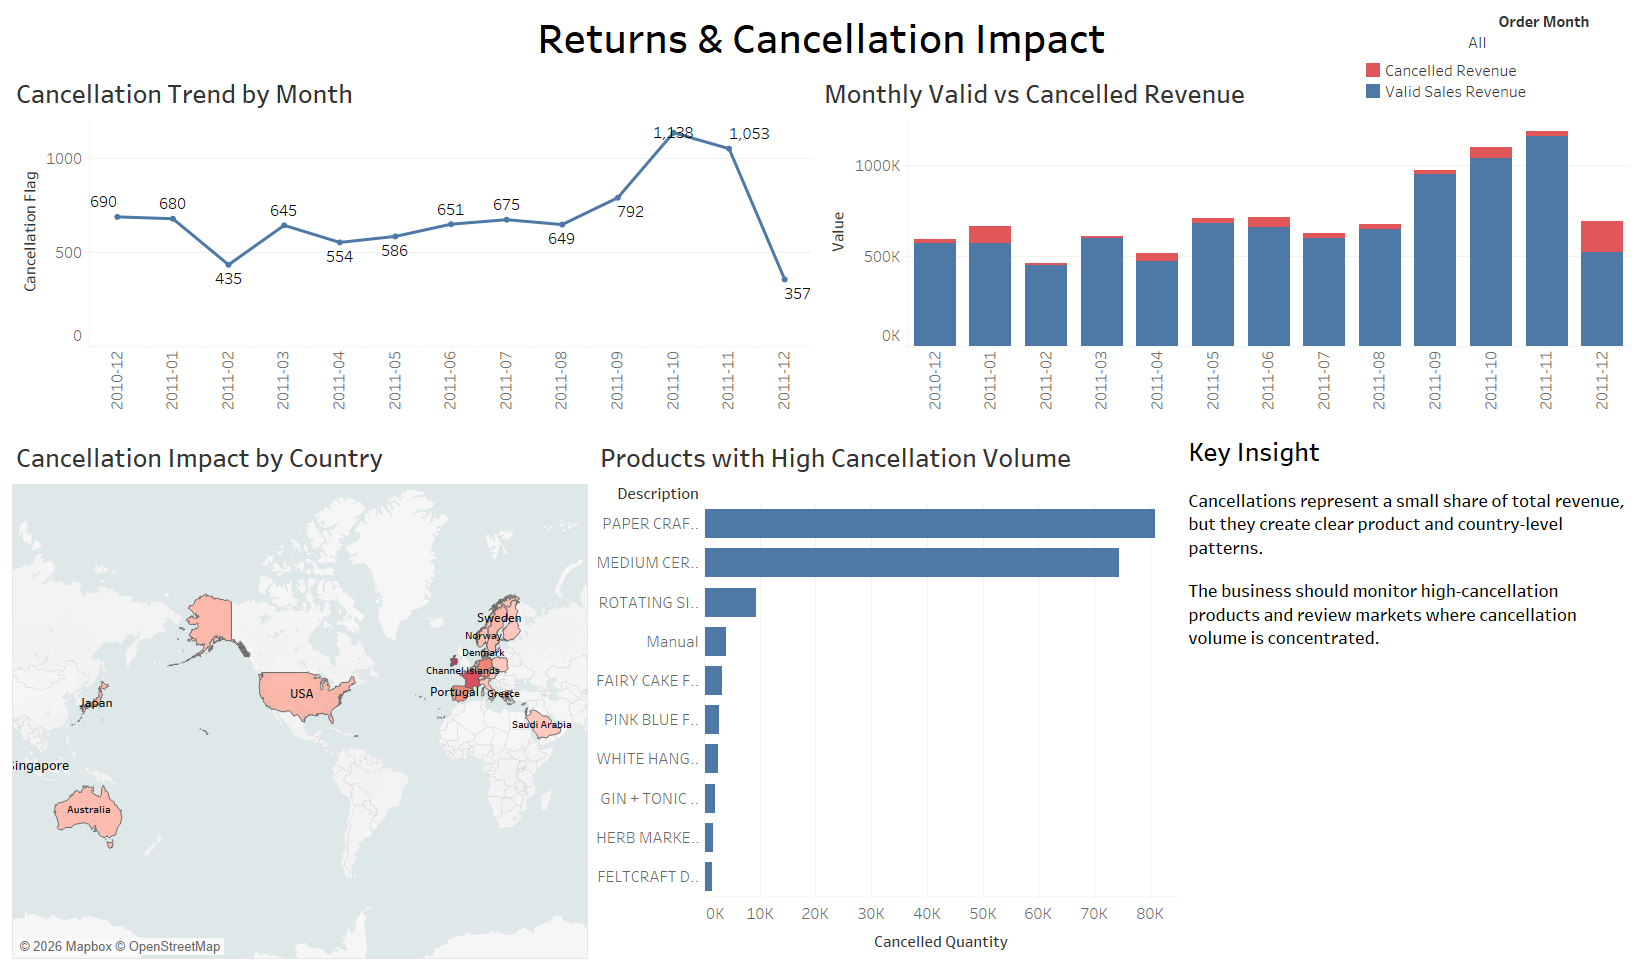

Layout of this report page (visuals, bound fields, positions):
{"tool":"tableau","page":{"name":"Returns & Cancellation Impact","canvas":[1000,1000],"units":"permille","ordinal":2},"visuals":[{"type":"text","box":[4.9,8.2,990.3,59.7]},{"type":"filter","title":"Cancellation Impact by Country","param":"[federated.02rlsfx0t1054z10cr4io0tsq1si].[none:order_month:nk]","box":[892.1,10.3,94.8,54.6]},{"type":"legend","title":"Monthly Valid vs Cancelled Revenue","param":"[federated.02rlsfx0t1054z10cr4io0tsq1si].[:Measure Names]","box":[829.6,61.8,102.2,65.9]},{"type":"worksheet","title":"Cancellation Trend by Month","mark":"Line","rows":["Calculation_613615515167854594"],"cols":["order_month"],"box":[4.9,68,492,374.9]},{"type":"worksheet","title":"Monthly Valid vs Cancelled Revenue","mark":"Bar","cols":["order_month"],"box":[496.9,68,498.1,374.9]},{"type":"worksheet","title":"Cancellation Impact by Country","mark":"Multipolygon","box":[4.9,442.8,355.2,548.9]},{"type":"worksheet","title":"Products with High Cancellation Volume","mark":"Automatic","rows":["description"],"cols":["Calculation_100486632675151874"],"box":[360.1,442.8,358.9,548.9]},{"type":"text","box":[719,442.8,276.1,548.9]}]}

Visuals, with their boxes on the dashboard's canvas, which has no fixed pixel size, in thousandths of its width and height (x1, y1, x2, y2). These are canvas units, not pixel positions in the 1643x971 screenshot, which may show the page scaled, cropped or inside an application window:
text: (left=5, top=8, right=995, bottom=68)
"Cancellation Impact by Country" filter: (left=892, top=10, right=987, bottom=65)
"Monthly Valid vs Cancelled Revenue" legend: (left=830, top=62, right=932, bottom=128)
"Cancellation Trend by Month" worksheet (Line marks): (left=5, top=68, right=497, bottom=443)
"Monthly Valid vs Cancelled Revenue" worksheet (Bar marks): (left=497, top=68, right=995, bottom=443)
"Cancellation Impact by Country" worksheet (Multipolygon marks): (left=5, top=443, right=360, bottom=992)
"Products with High Cancellation Volume" worksheet: (left=360, top=443, right=719, bottom=992)
text: (left=719, top=443, right=995, bottom=992)
